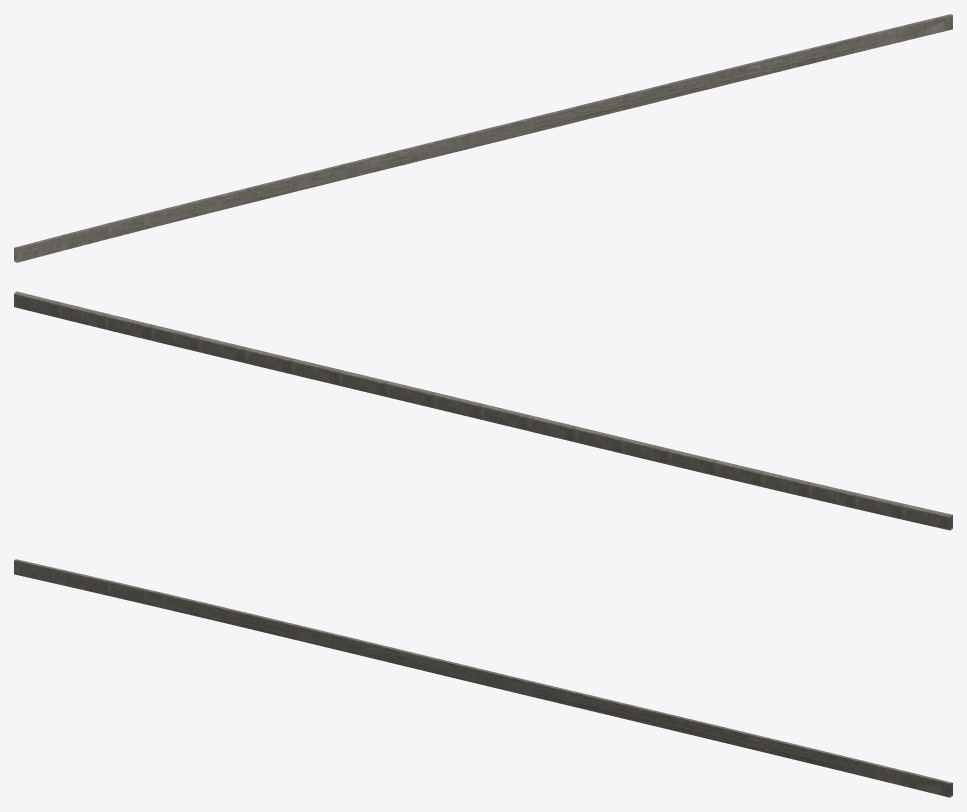
File: SM_Curb_22.glb
The picture shows the model from 3 angles, top to bottom: view 1: azimuth 30°, elevation 25°; view 2: azimuth 150°, elevation 25°; view 3: azimuth 330°, elevation 25°; orthographic projection.
Visible parts, largest first — view 1: SM_Curb_22; view 2: SM_Curb_22; view 3: SM_Curb_22.
Boxes of the visible parts, left/top/right/bottom form: SM_Curb_22: left=14, top=14, right=952, bottom=262; SM_Curb_22: left=14, top=291, right=952, bottom=530; SM_Curb_22: left=14, top=559, right=952, bottom=797.
Size of the model in its own units: 5278 by 75.01 by 76.96.
1 material, 1 textured.
